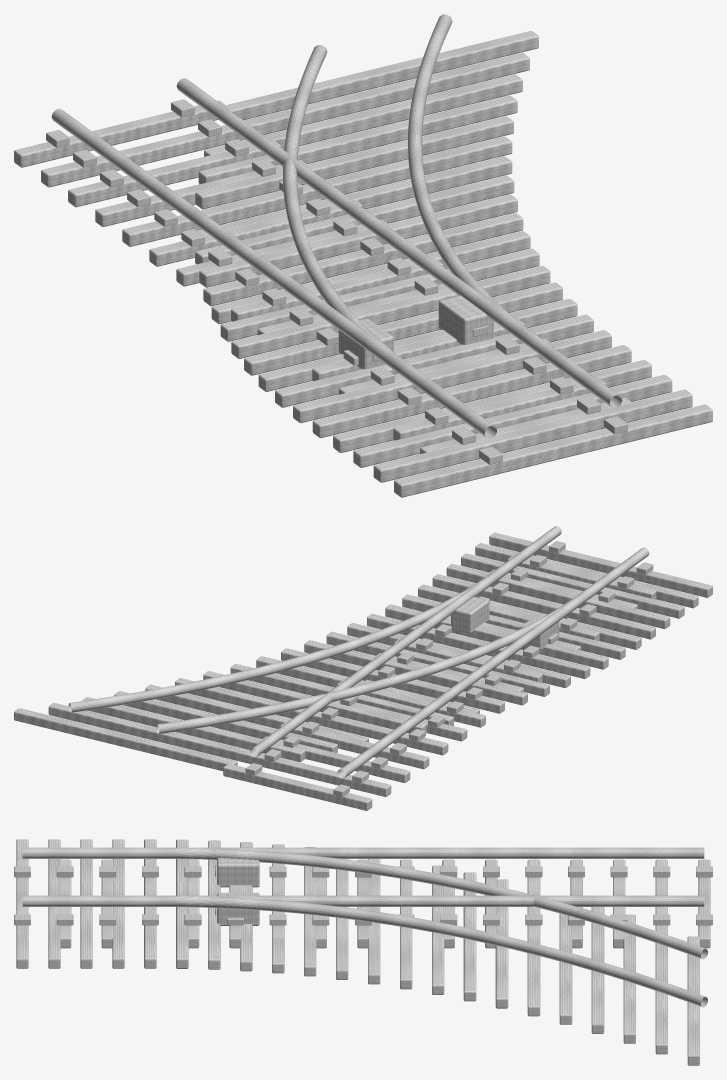
Rendered from railway_variant_d.glb.
The picture shows the model from 3 angles, top to bottom: view 1: azimuth 30°, elevation 25°; view 2: azimuth 150°, elevation 25°; view 3: azimuth 270°, elevation 25°; orthographic projection. The views are drawn at different scales.
Parts seen in each view (by area): view 1: Left rail.003, Right rail.003, Turnout sleeper.001, Turnout sleeper.021, Turnout sleeper, Turnout sleeper.017, Turnout sleeper.005, Turnout branch right rail, Turnout branch left rail, Turnout sleeper.020, Turnout sleeper.018, Turnout sleeper.009 (+33 smaller); view 2: Turnout branch right rail, Turnout branch left rail, Left rail.003, Right rail.003, Turnout sleeper.021, Turnout sleeper.020, Turnout sleeper.003, Turnout sleeper.004, Turnout sleeper.019, Turnout sleeper.015, Turnout sleeper.011, Turnout sleeper.002 (+31 smaller); view 3: Turnout branch right rail, Turnout branch left rail, Left rail.003, Right rail.003, Turnout sleeper.018, Turnout sleeper.002, Turnout sleeper.021, Turnout sleeper.020, Turnout sleeper.019, Turnout sleeper.014, Turnout sleeper.017, Turnout sleeper.015 (+33 smaller).
Boxes of the visible parts, x1,y1,x2,y2 form: Left rail.003: [51, 108, 496, 438]; Right rail.003: [176, 78, 621, 408]; Turnout sleeper.001: [373, 389, 692, 482]; Turnout sleeper.021: [224, 31, 538, 120]; Turnout sleeper: [394, 404, 712, 497]; Turnout sleeper.017: [195, 116, 513, 209]; Turnout sleeper.005: [293, 330, 611, 423]; Turnout branch right rail: [408, 14, 621, 407]; Turnout branch left rail: [283, 45, 496, 438]; Turnout sleeper.020: [220, 53, 529, 144]; Turnout sleeper.018: [198, 95, 517, 184]; Turnout sleeper.009: [231, 266, 550, 358]; Turnout branch right rail: [68, 527, 561, 712]; Turnout branch left rail: [156, 548, 648, 734]; Left rail.003: [337, 547, 649, 778]; Right rail.003: [249, 526, 561, 757]; Turnout sleeper.021: [14, 708, 237, 770]; Turnout sleeper.020: [48, 702, 264, 762]; Turnout sleeper.003: [446, 564, 670, 628]; Turnout sleeper.004: [432, 574, 655, 639]; Turnout sleeper.019: [82, 697, 305, 762]; Turnout sleeper.015: [203, 671, 426, 733]; Turnout sleeper.011: [304, 640, 527, 705]; Turnout sleeper.002: [461, 553, 684, 618]; Turnout branch right rail: [22, 895, 707, 1007]; Turnout branch left rail: [23, 847, 707, 959]; Left rail.003: [22, 847, 704, 858]; Right rail.003: [22, 895, 704, 906]; Turnout sleeper.018: [591, 907, 604, 1033]; Turnout sleeper.002: [80, 839, 92, 968]; Turnout sleeper.021: [687, 936, 699, 1065]; Turnout sleeper.020: [655, 925, 667, 1054]; Turnout sleeper.019: [623, 914, 635, 1043]; Turnout sleeper.014: [463, 872, 476, 1001]; Turnout sleeper.017: [559, 913, 572, 1024]; Turnout sleeper.015: [495, 879, 508, 1008].
Bounding box in the file's own units: 9.04 × 0.7151 × 12.3.
Materials: 4 (4 with a texture image).
